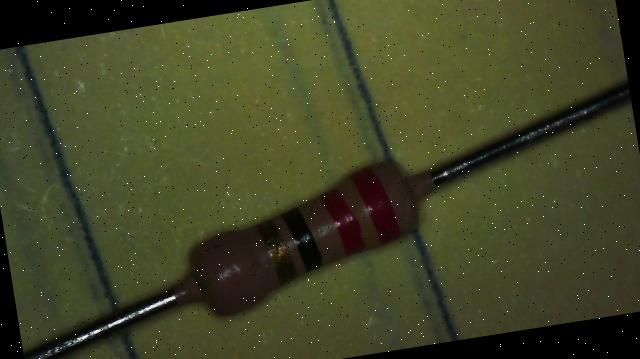black: (282, 206, 322, 274)
gold: (257, 217, 297, 284)
red: (350, 163, 400, 245), (320, 184, 365, 257)
resistor: (152, 123, 464, 342)
